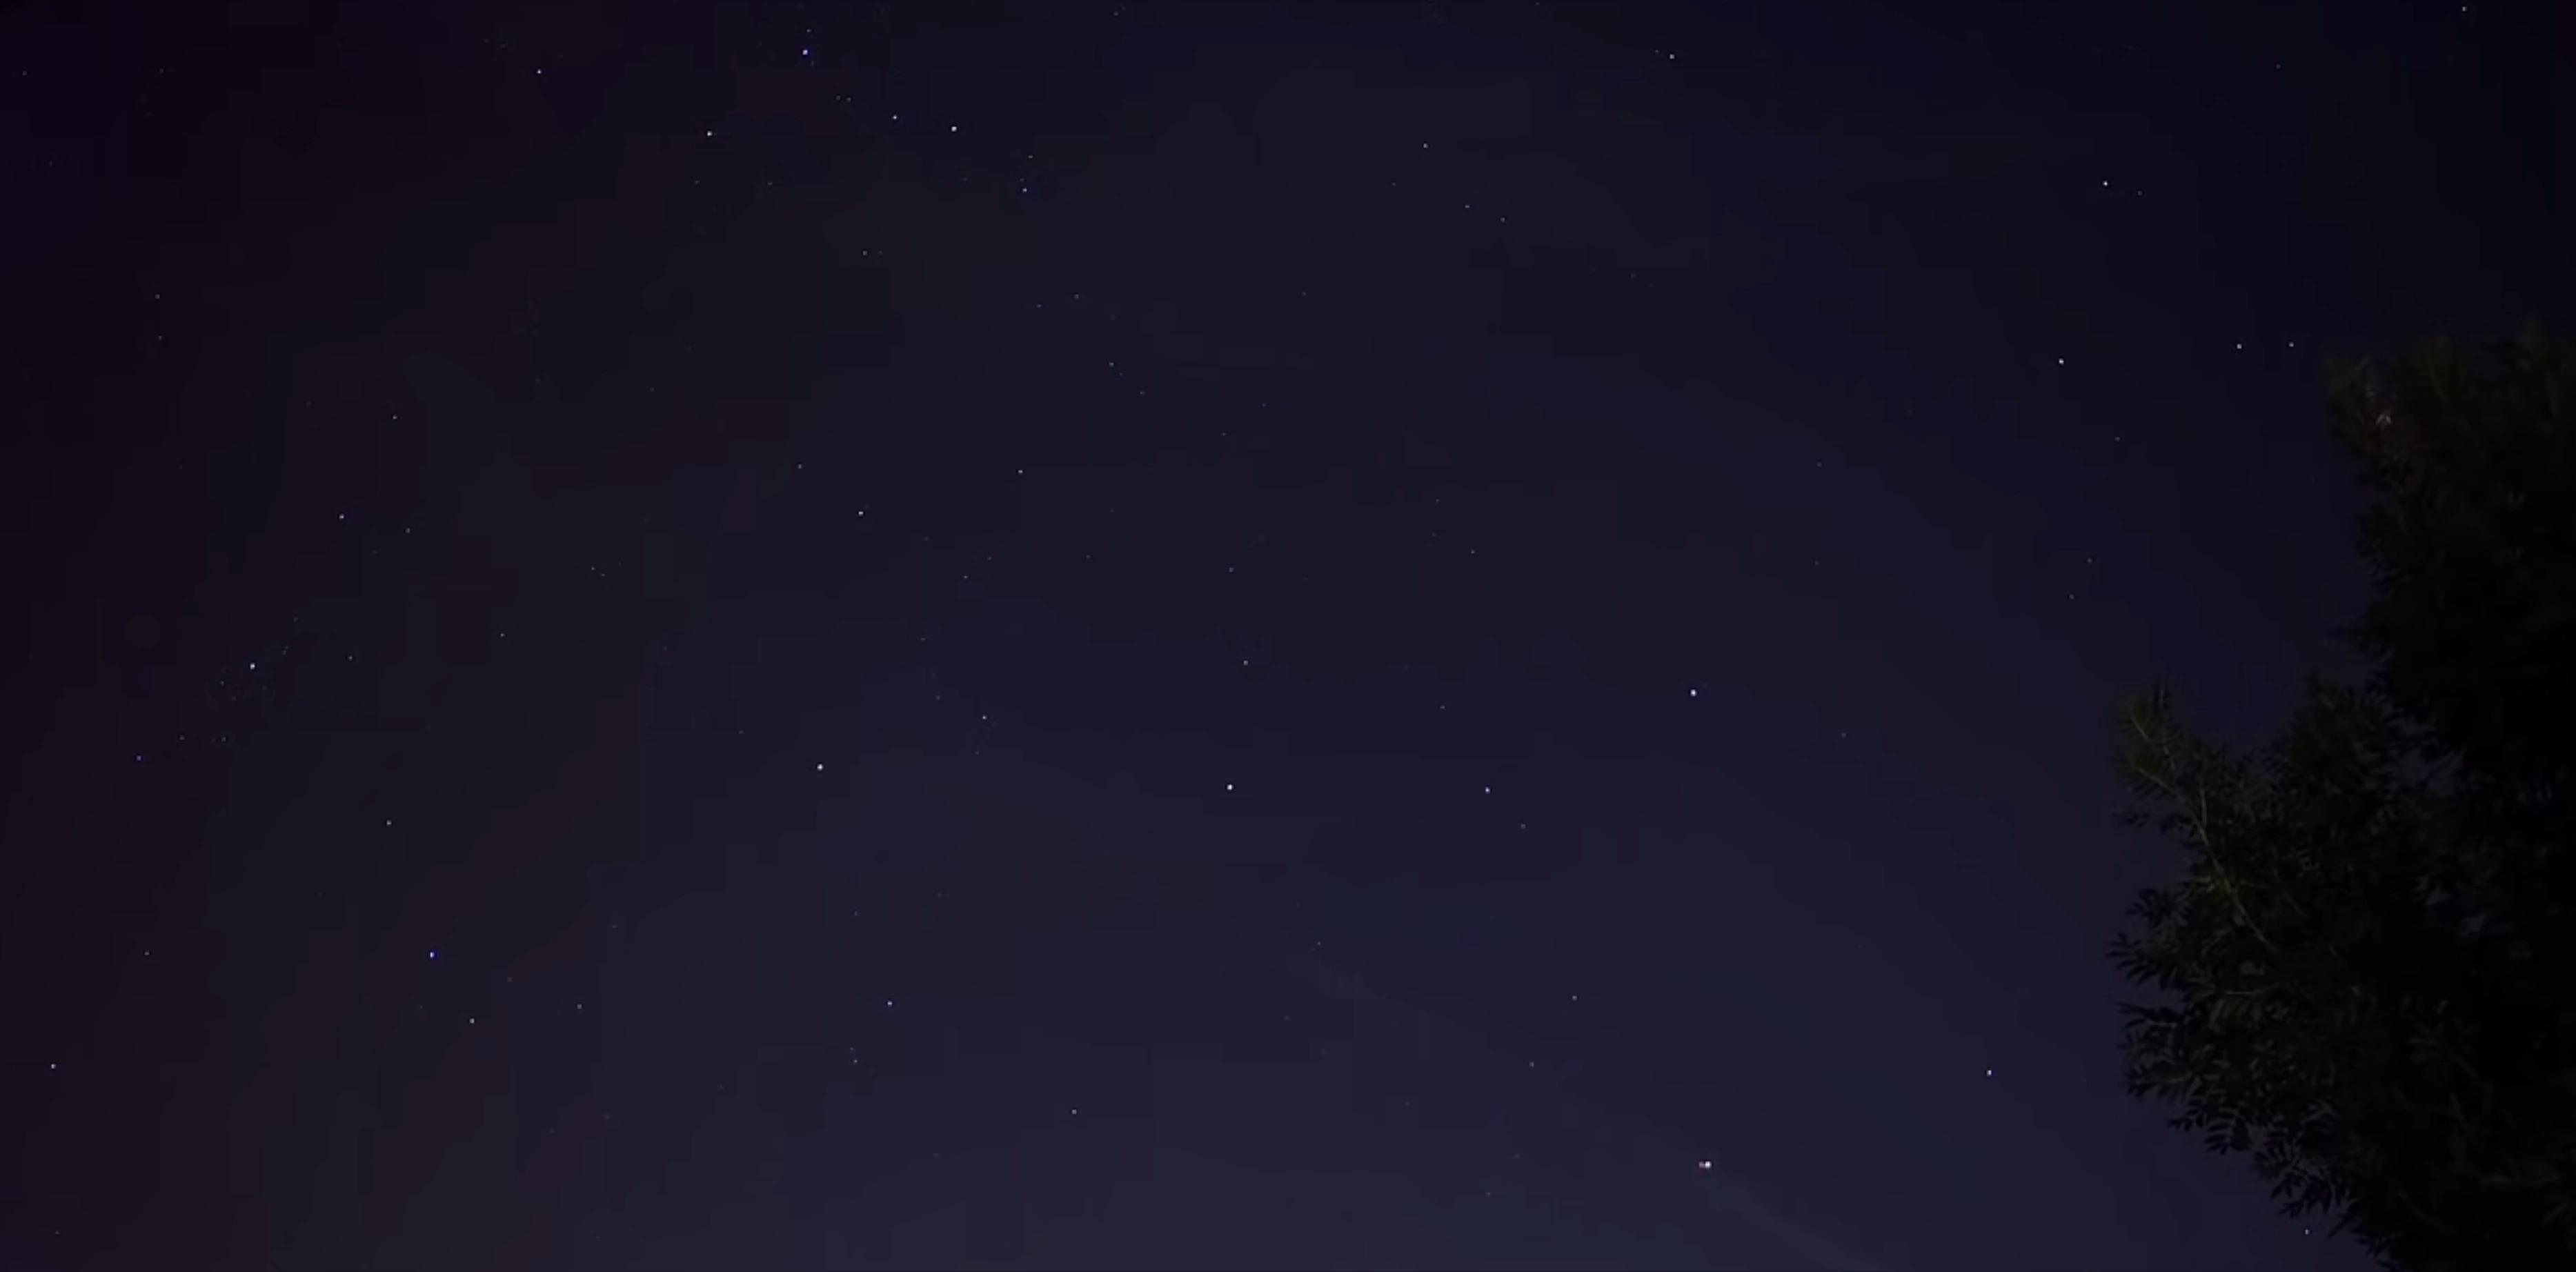Plane: (1667, 1150, 1740, 1177)
